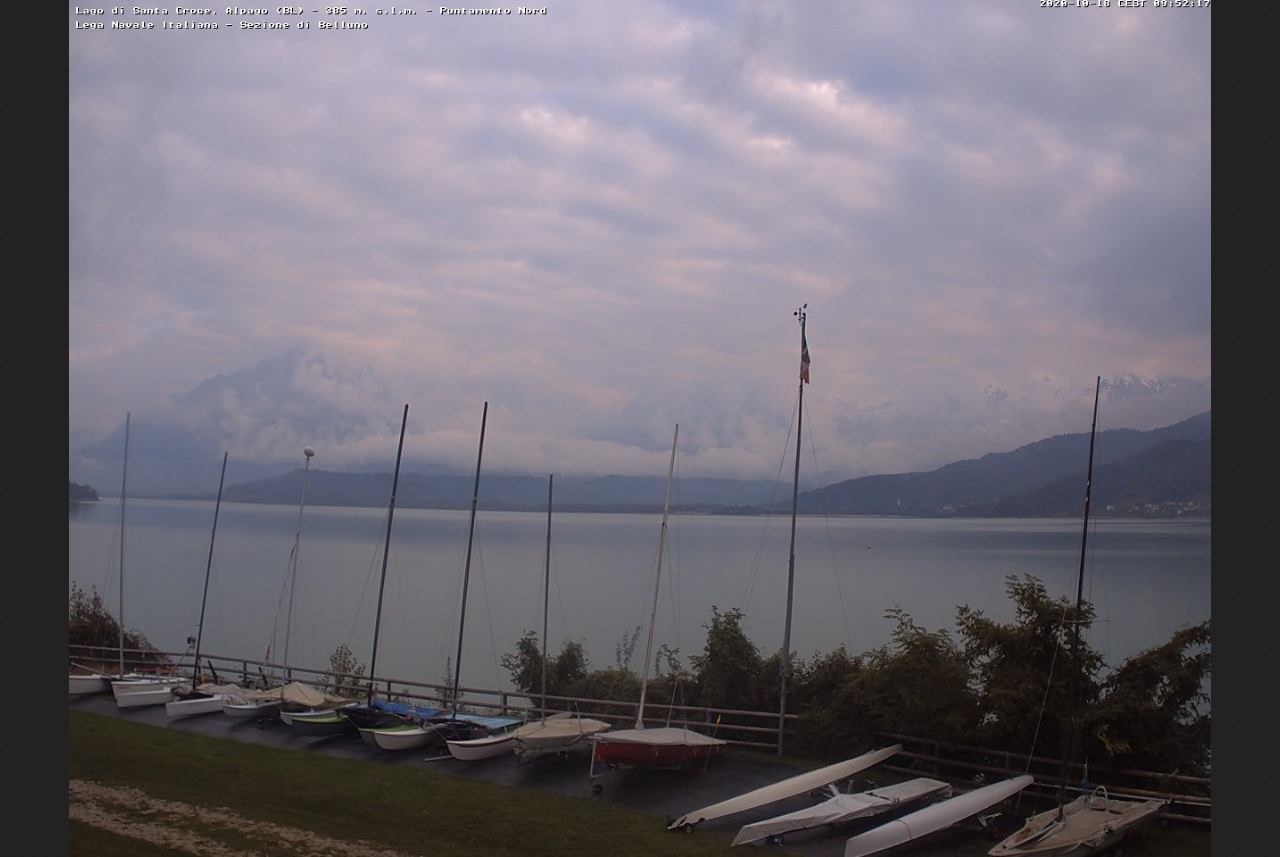no: (791, 302, 816, 393)
